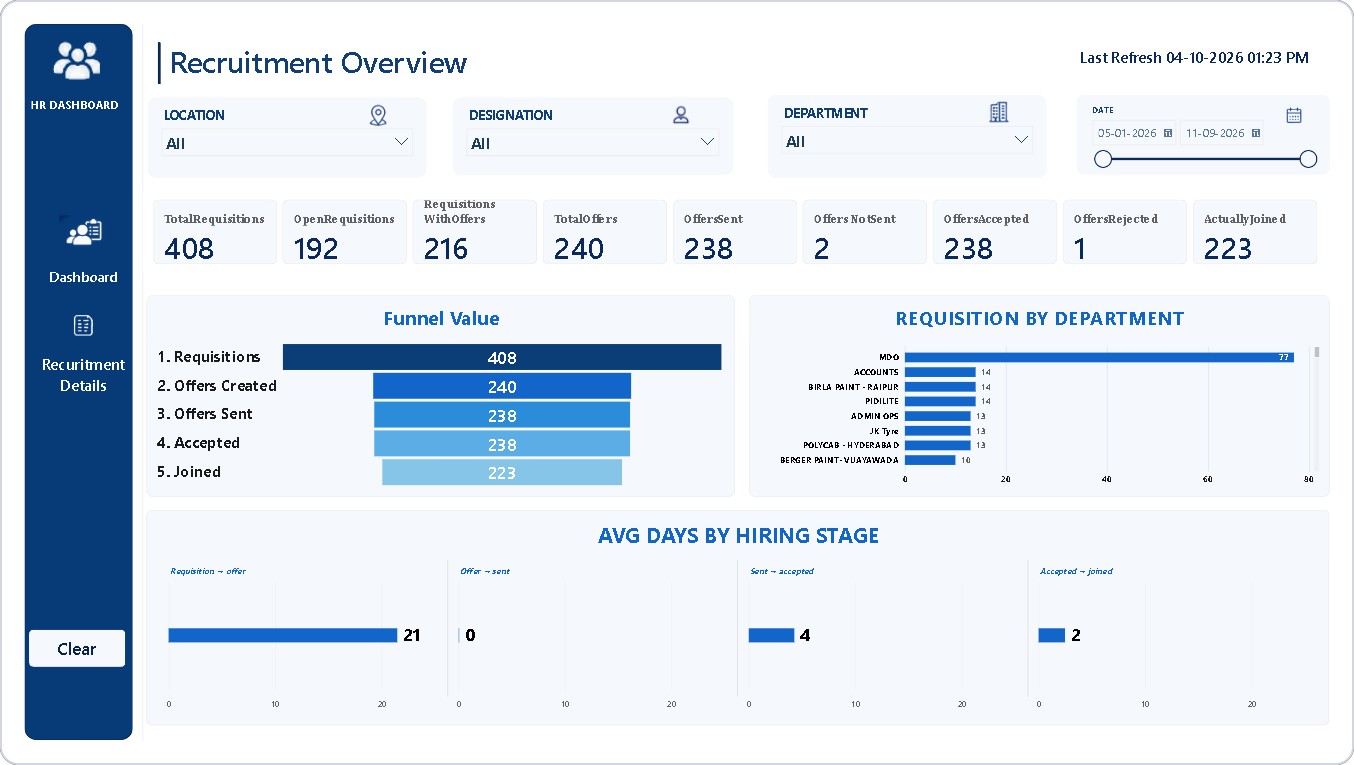

What the dashboard file says about the page in this screenshot:
{"tool":"powerbi","page":{"name":"Dashboard","canvas":[1920,1080],"ordinal":0},"visuals":[{"type":"slicer","fields":{"Values":["Sheet1.REQ_LOCATION"]},"box":[192,119.5,401.1,115.2],"z":0},{"type":"shape","box":[0,0,185.6,1056],"z":1000},{"type":"slicer","fields":{"Values":["Sheet1.REQ_DEPARTMENT_NAME"]},"box":[1083.7,115.2,401.1,119.5],"z":2000},{"type":"slicer","fields":{"Values":["Sheet1.REQ_DESIGNATION_NAME"]},"box":[631.5,119.5,403.2,110.9],"z":3000},{"type":"slicer","fields":{"Values":["Sheet1.REQ_DATE_RAW"]},"box":[1527.6,116,364.4,114.1],"z":4000},{"type":"funnel","title":"Funnel Value","fields":{"Category":["FunnelStages.Stage"],"Y":["FunnelStages.Funnel Value"]},"box":[191.4,403.1,846.6,290.8],"z":5000},{"type":"clusteredBarChart","title":"AVG DAYS BY HIRING STAGE","fields":{"Category":["CycleStages.Step"],"Rows":["CycleStages.Step"],"Y":["CycleStages.Avg Days"]},"box":[190.4,712,1701,309.5],"z":6000},{"type":"textbox","box":[207.8,6.5,578.3,105],"z":7000},{"type":"clusteredBarChart","title":"REQUISITION BY DEPARTMENT","fields":{"Category":["Sheet1.REQ_DEPARTMENT_NAME"],"Y":["Sheet1.TotalRequisitions"]},"box":[1056.4,403.1,835.6,290.8],"z":8000},{"type":"image","box":[32,19.2,106.7,91.7],"z":9000},{"type":"textbox","box":[10.7,104.5,166,48.7],"z":10000},{"type":"cardVisual","fields":{"Data":["CycleStages.Last Refresh"]},"box":[1477.9,18.4,414.1,82.8],"z":11000},{"type":"image","box":[486.9,116.9,73.6,56.3],"z":13000},{"type":"image","box":[1378.1,110.9,74.7,55.5],"z":14000},{"type":"image","box":[1815.7,116.9,49.8,54.1],"z":15000},{"type":"image","box":[921.9,112.5,73.6,60.6],"z":16000},{"type":"cardVisual","fields":{"Data":["Sheet1.TotalRequisitions","Sheet1.OpenRequisitions","Sheet1.Requisitions WithOffers","Sheet1.TotalOffers","Sheet1.OffersSent","Sheet1.Offers NotSent","Sheet1.OffersAccepted","Sheet1.OffersRejected","Sheet1.ActuallyJoined"]},"box":[185.9,254,1706.1,117.8],"z":17000},{"type":"shape","box":[192.2,26.7,32.5,84.4],"z":18000},{"type":"actionButton","box":[7.8,871.1,166.7,77.8],"z":19000},{"type":"image","box":[70.1,417.1,58.4,58.4],"z":20000},{"type":"image","box":[50.3,271.5,100.3,81.6],"z":24000},{"type":"pageNavigator","box":[7.2,298.4,185.2,298.4],"z":26000}]}

Visuals, with their boxes on the page's 1920x1080 design canvas (x1, y1, x2, y2). These are canvas units, not pixel positions in the 1354x765 screenshot, which may show the page scaled, cropped or inside an application window:
slicer - Sheet1.REQ_LOCATION: box=[192, 120, 593, 235]
shape: box=[0, 0, 186, 1056]
slicer - Sheet1.REQ_DEPARTMENT_NAME: box=[1084, 115, 1485, 235]
slicer - Sheet1.REQ_DESIGNATION_NAME: box=[632, 120, 1035, 230]
slicer - Sheet1.REQ_DATE_RAW: box=[1528, 116, 1892, 230]
"Funnel Value" funnel: box=[191, 403, 1038, 694]
"AVG DAYS BY HIRING STAGE" clusteredBarChart: box=[190, 712, 1891, 1022]
textbox: box=[208, 6, 786, 112]
"REQUISITION BY DEPARTMENT" clusteredBarChart: box=[1056, 403, 1892, 694]
image: box=[32, 19, 139, 111]
textbox: box=[11, 104, 177, 153]
cardVisual - CycleStages.Last Refresh: box=[1478, 18, 1892, 101]
image: box=[487, 117, 560, 173]
image: box=[1378, 111, 1453, 166]
image: box=[1816, 117, 1866, 171]
image: box=[922, 112, 996, 173]
cardVisual - Sheet1.TotalRequisitions x Sheet1.OpenRequisitions: box=[186, 254, 1892, 372]
shape: box=[192, 27, 225, 111]
actionButton: box=[8, 871, 174, 949]
image: box=[70, 417, 128, 476]
image: box=[50, 272, 151, 353]
pageNavigator: box=[7, 298, 192, 597]
